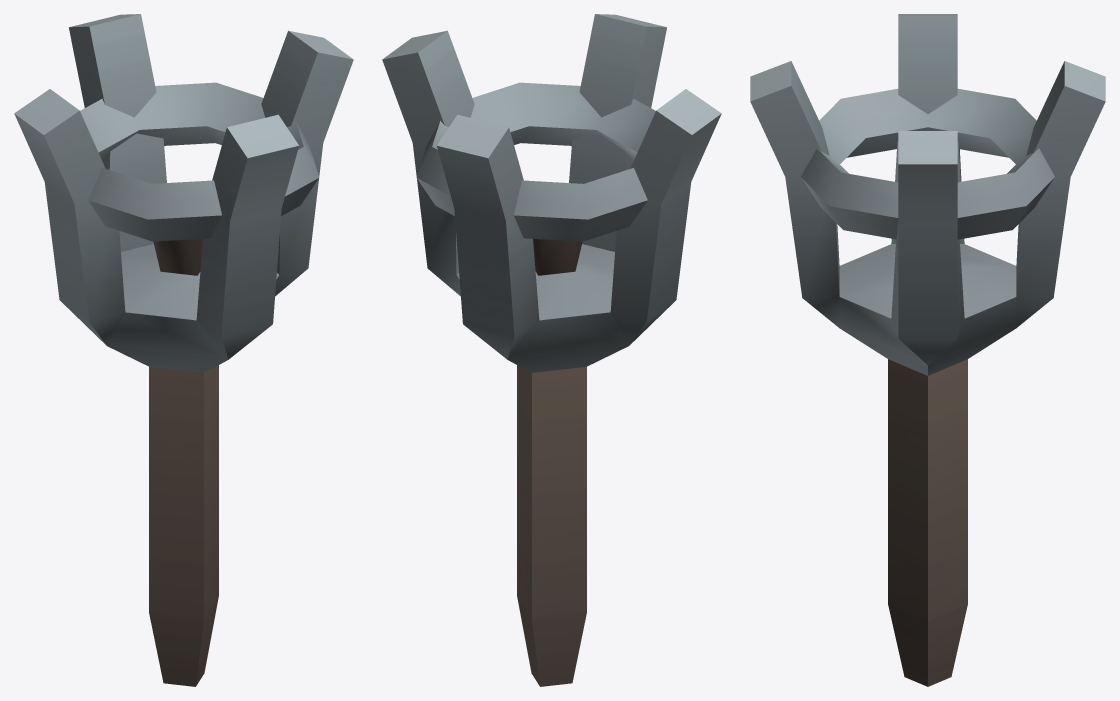
File: torch.glb
3 renders of one model, left to right at view 1: azimuth 30°, elevation 25°; view 2: azimuth 150°, elevation 25°; view 3: azimuth 270°, elevation 25°, orthographic.
Parts seen in each view (by area): view 1: torch; view 2: torch; view 3: torch.
Boxes of the visible parts, x1,y1,x2,y2 form: torch: [14, 14, 353, 686]; torch: [382, 14, 721, 686]; torch: [750, 14, 1105, 686].
Bounding box in the file's own units: 0.5503 × 1.04 × 0.5503.
1 material, 1 textured.
